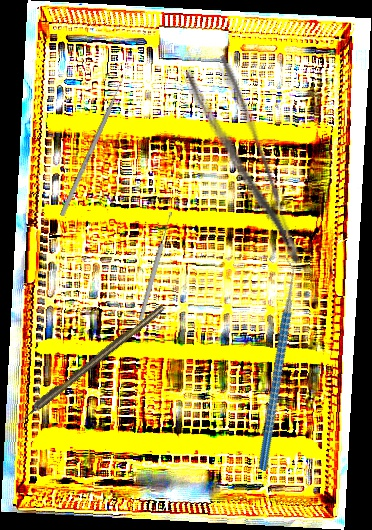Chopper: (189, 254, 359, 472)
Dressing Forceps: (181, 53, 306, 280)
Hook Surgical: (10, 303, 167, 429)
Pusher: (59, 70, 129, 217)
Surgical Spoon: (137, 211, 175, 321)
